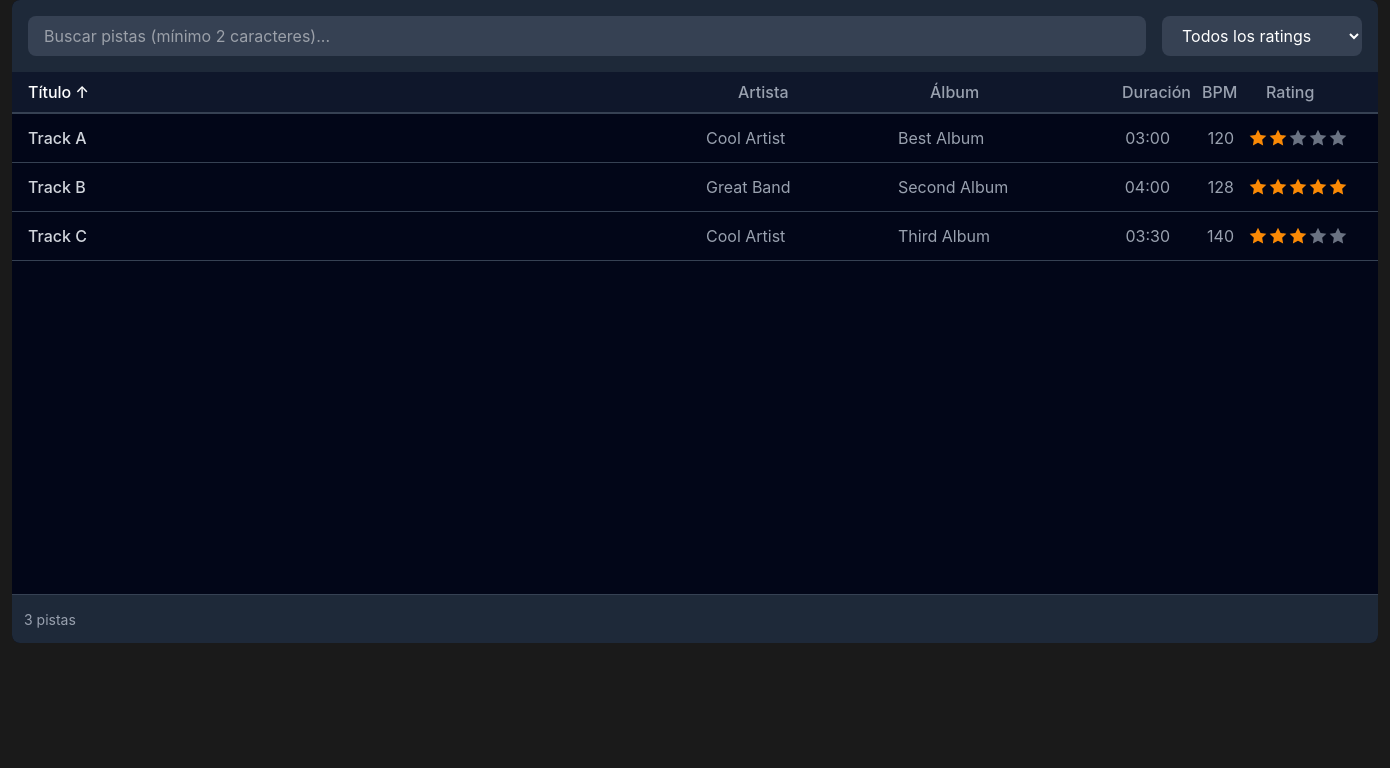
Scenario: TrackList › debería permitir ordenar por rating
The width and height of the screenshot is (1390, 768).
Note: Click para ordenar por rating (ascendente)
Step 1. Click the button "Rating" → (1314, 92), box x1=1250 y1=72 x2=1378 y2=112
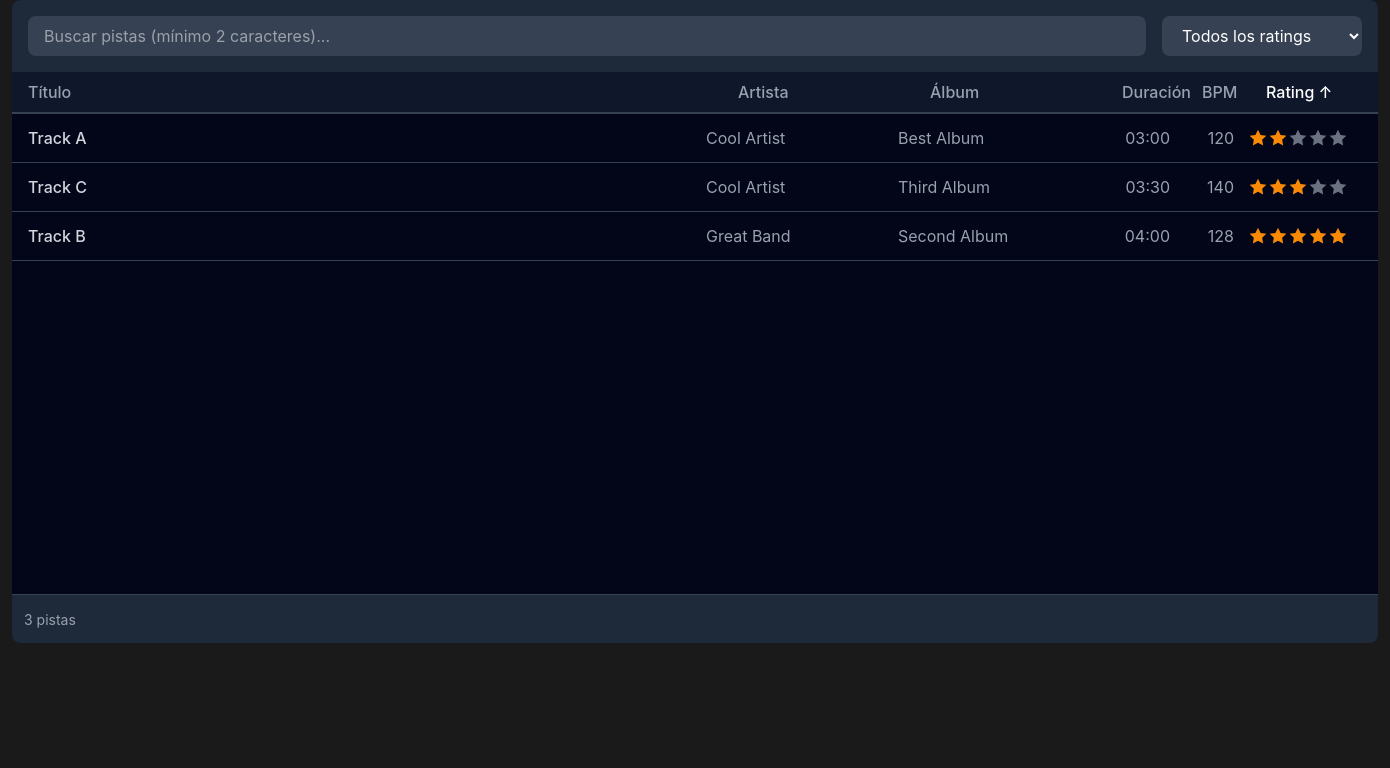
expect the row "Track A Cool Artist Best Album 03:00 120" is shown: met, box x1=12 y1=114 x2=1378 y2=163
expect the row "Track C Cool Artist Third Album 03:30 140" is shown: met, box x1=12 y1=163 x2=1378 y2=212
expect the row "Track B Great Band Second Album 04:00 128" is shown: met, box x1=12 y1=212 x2=1378 y2=261
